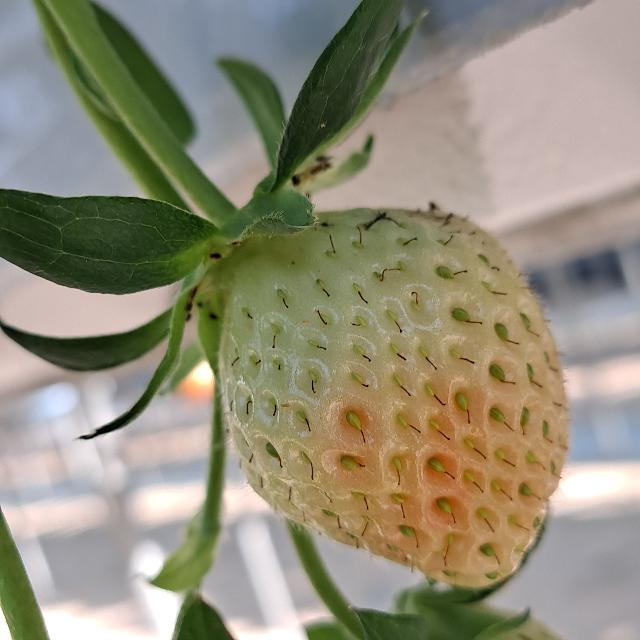Health_50: (219, 208, 569, 586)
